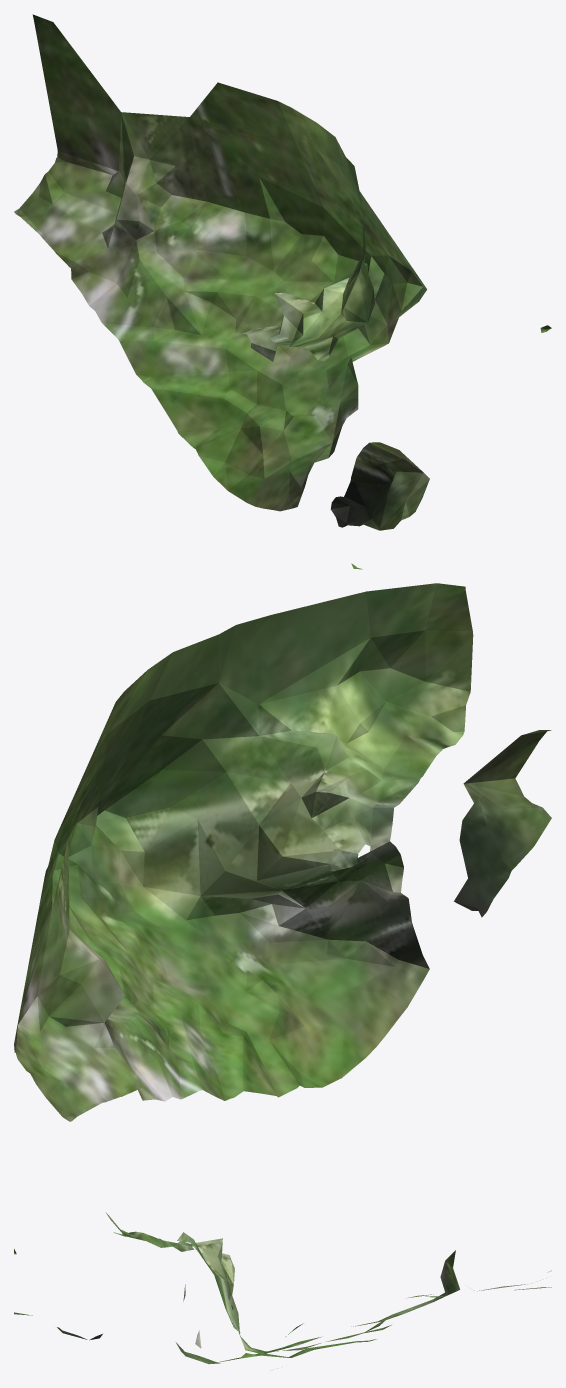
3 views of the same model, one above another, from view 1: azimuth 30°, elevation 25°; view 2: azimuth 150°, elevation 25°; view 3: azimuth 270°, elevation 25° (orthographic). The views are drawn at different scales.
Bounding box in the file's own units: 7.78 × 11.97 × 26.11.
1 material, 1 textured.
